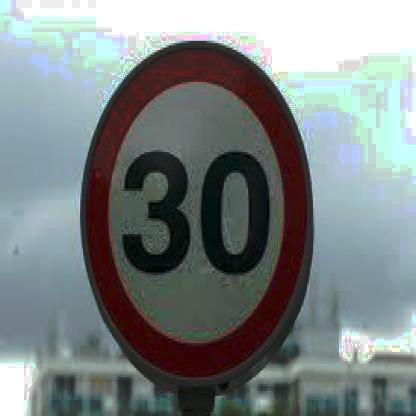Speed Limit -30-: (77, 29, 318, 384)
